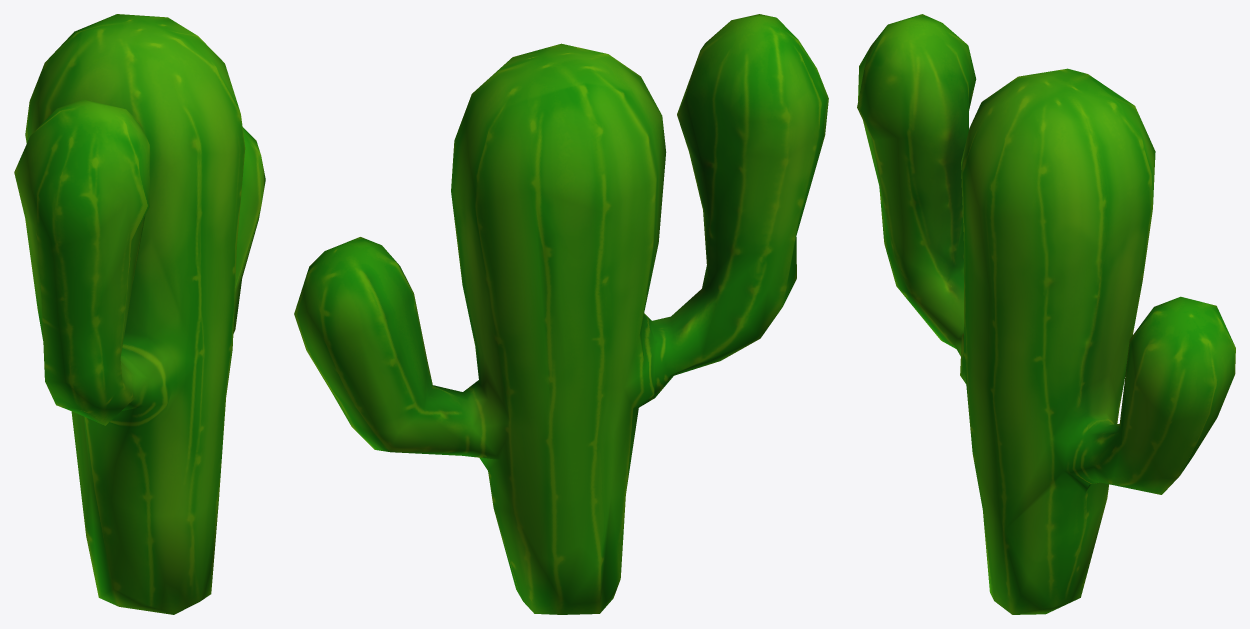
File: Cactus.fbx
3 renders of one model, left to right at view 1: azimuth 30°, elevation 25°; view 2: azimuth 150°, elevation 25°; view 3: azimuth 270°, elevation 25°, orthographic. The views are drawn at different scales.
Visible parts, largest first — view 1: Group6940; view 2: Group6940; view 3: Group6940.
Boxes of the visible parts, <box> form: Group6940: <box>14,14,265,614</box>; Group6940: <box>294,14,828,614</box>; Group6940: <box>857,14,1235,614</box>.
Size of the model in its own units: 5.42 by 7.92 by 5.2.
